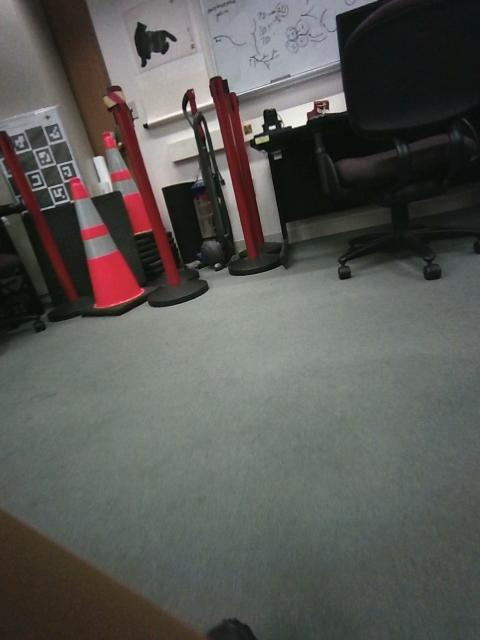block: (354, 290, 414, 326)
